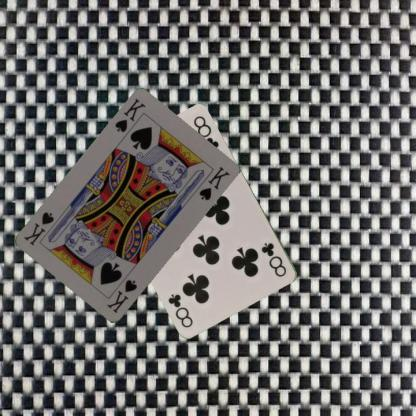8c: (259, 240, 288, 278)
Ks: (104, 277, 139, 315), (112, 96, 147, 134)
